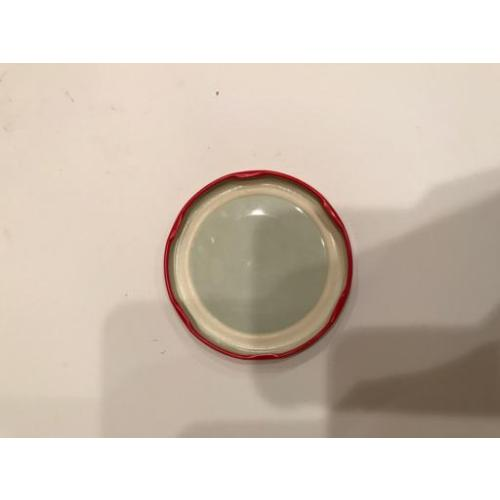metal: (163, 168, 355, 361)
